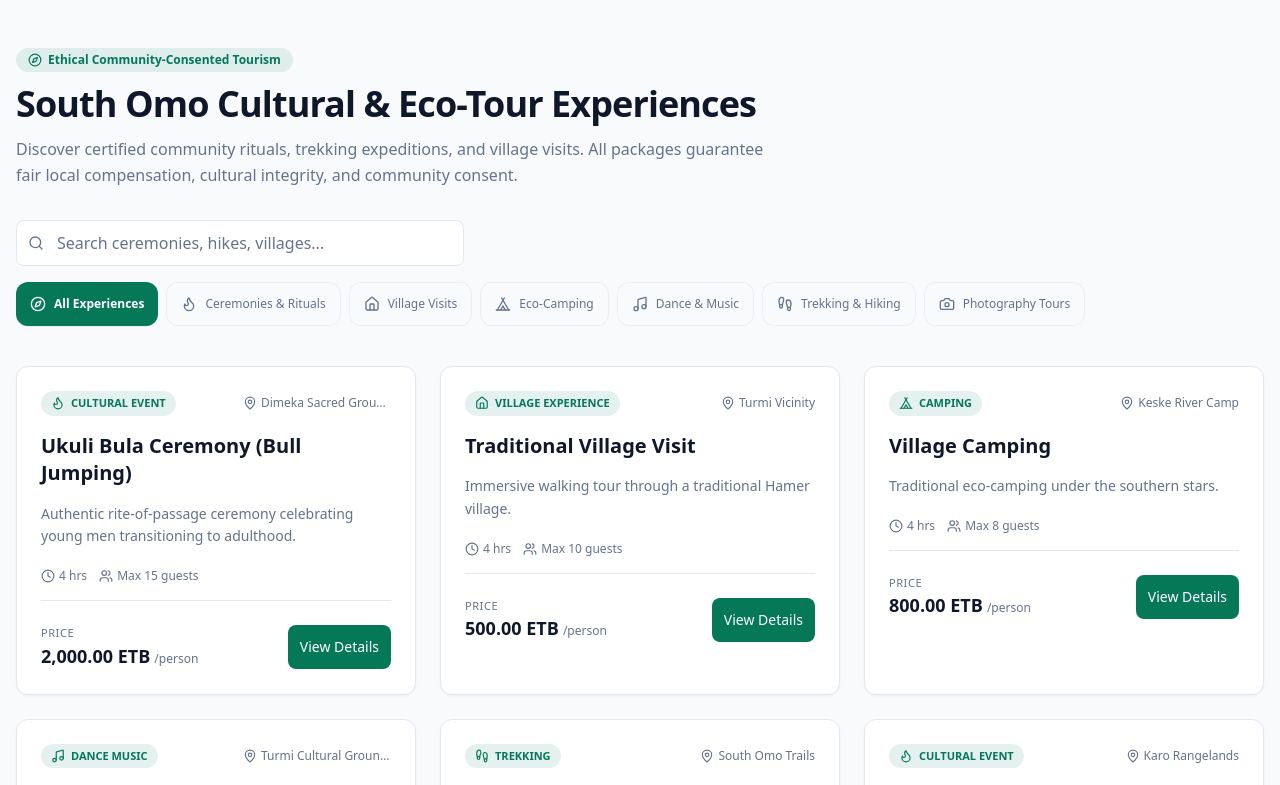
Scenario: Tourism Service Packages List (F-302) › filters packages using search bar
expect the heading "Ukuli Bula Ceremony (Bull Jumping)" is shown: met, box [41,432,301,486]
Type "evangadi" into the field with placeholder "Search ceremonies, hikes, villages...".
click(240, 243); type("evangadi")  # box [16,220,464,266]
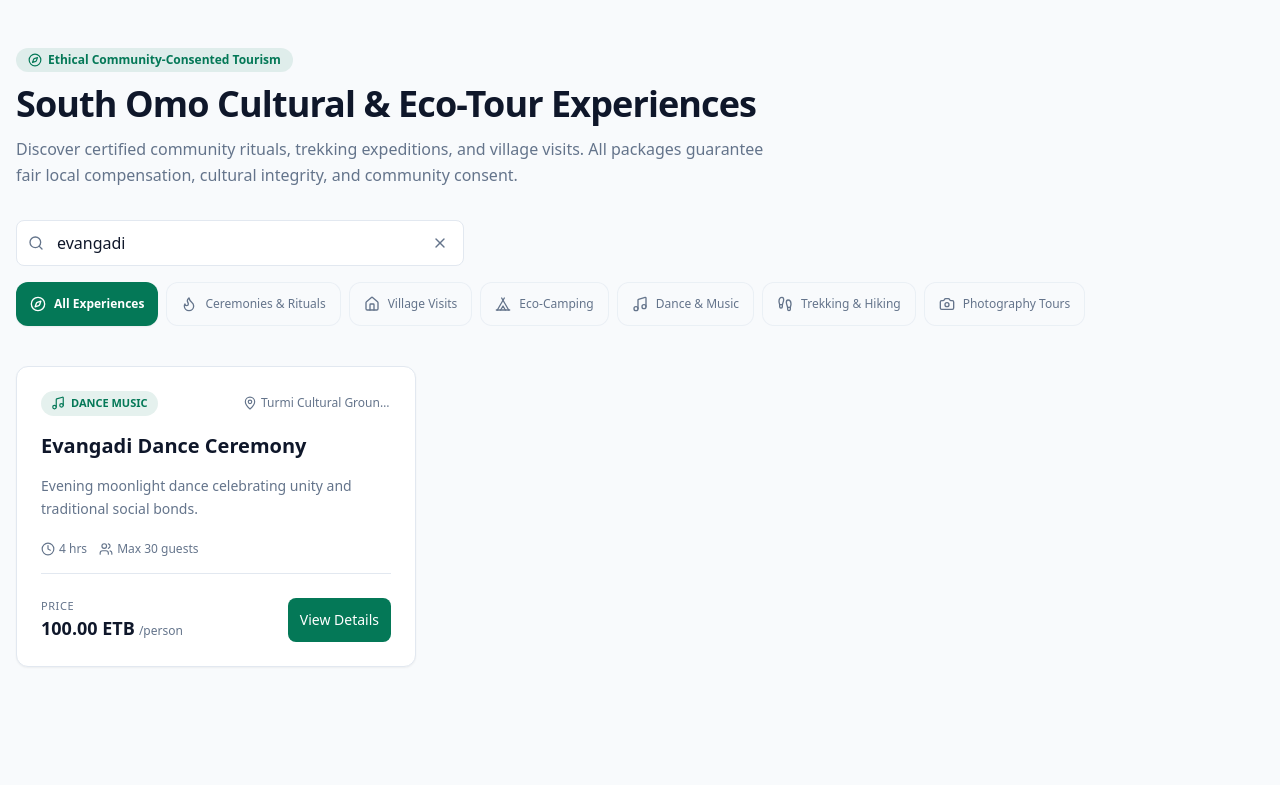
expect the heading "Evangadi Dance Ceremony" is shown: met, box [41,432,306,458]
expect the heading "Ukuli Bula Ceremony (Bull Jumping)" is gone: met
